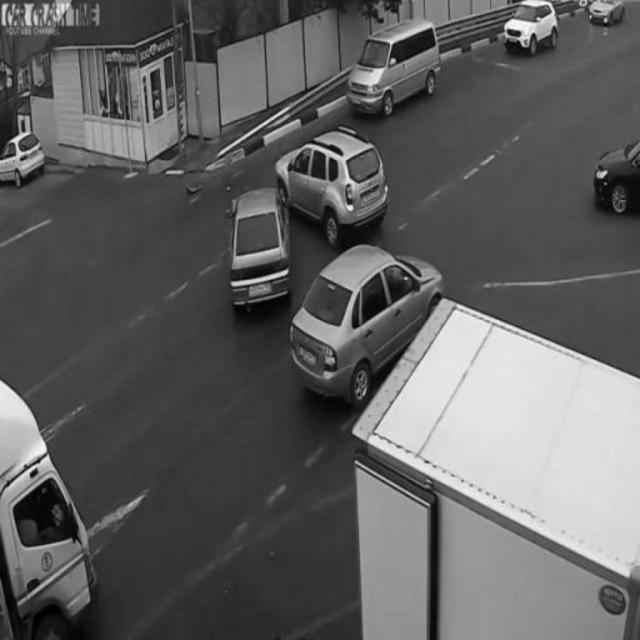accident: (230, 124, 394, 304)
vehicle: (293, 240, 455, 404), (0, 382, 98, 640), (350, 22, 444, 120), (586, 136, 640, 222), (504, 5, 561, 59), (3, 137, 50, 185)
